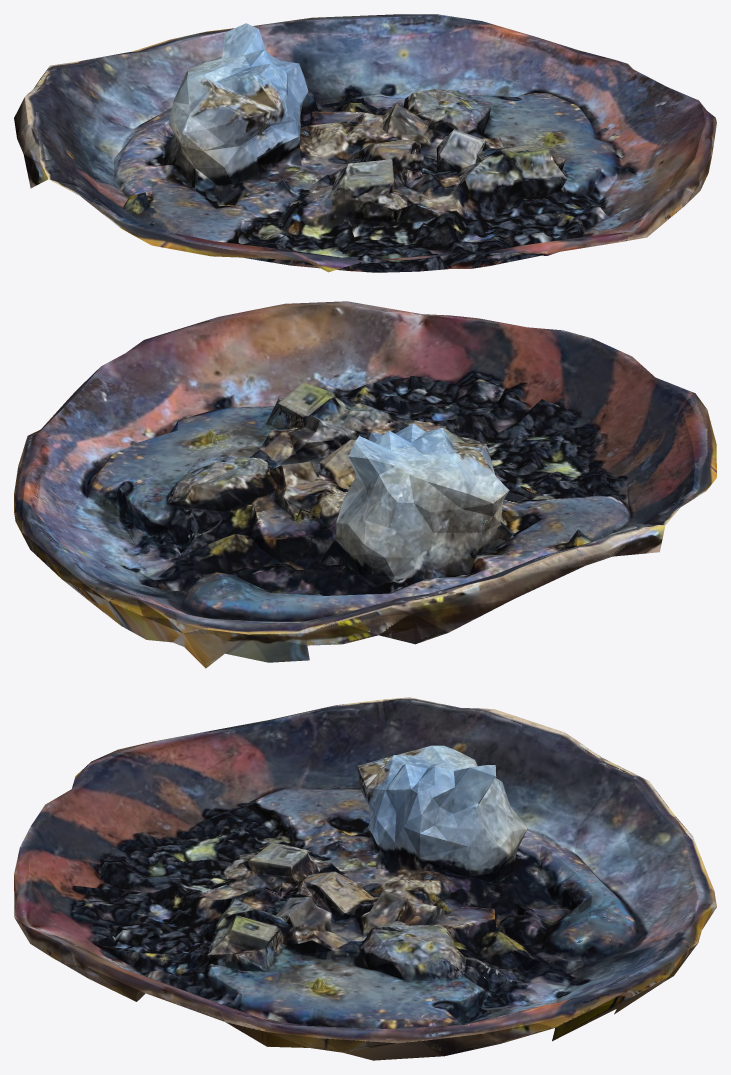
Rendered from bowl.glb.
3 views of the same model, one above another, from view 1: azimuth 30°, elevation 25°; view 2: azimuth 150°, elevation 25°; view 3: azimuth 270°, elevation 25° (orthographic). The views are drawn at different scales.
Visible parts, largest first — view 1: ethereal bowl; view 2: ethereal bowl; view 3: ethereal bowl.
Boxes of the visible parts, bbox=[...] form: ethereal bowl: bbox=[14, 14, 716, 272]; ethereal bowl: bbox=[14, 301, 716, 668]; ethereal bowl: bbox=[14, 697, 716, 1060].
Bounding box in the file's own units: 0.9399 × 0.2344 × 0.9277.
1 material, 1 textured.
